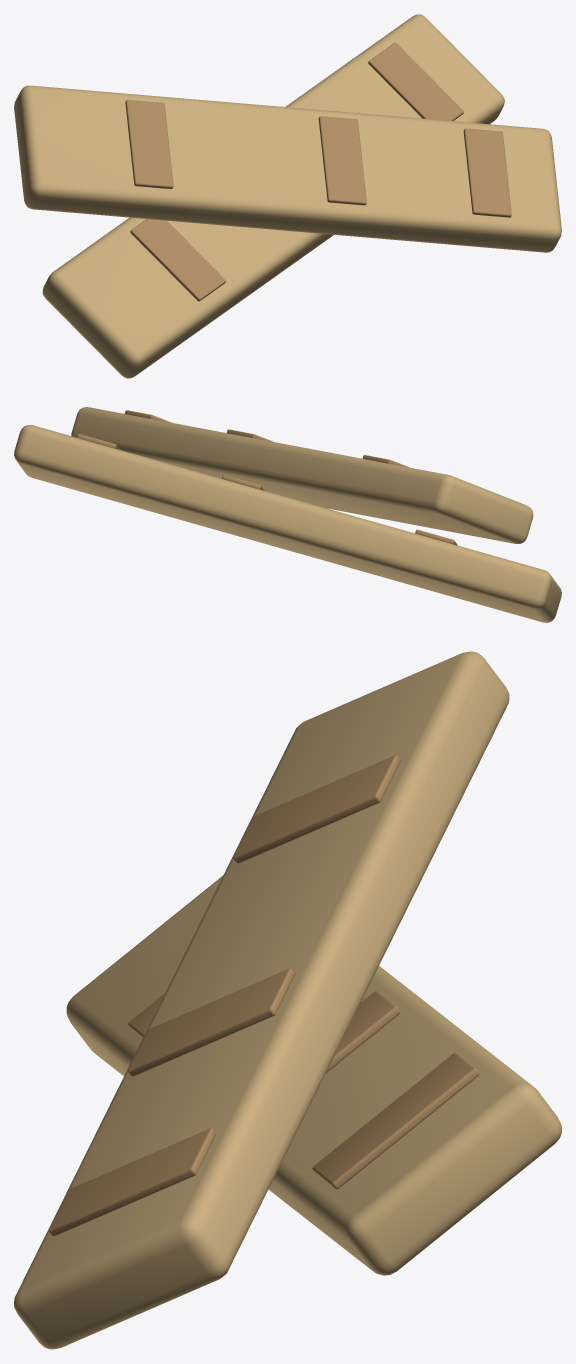
File: mat_plank.glb
3 views of the same model, one above another, from view 1: azimuth 30°, elevation 25°; view 2: azimuth 150°, elevation 25°; view 3: azimuth 270°, elevation 25° (orthographic). The views are drawn at different scales.
Parts seen in each view (by area): view 1: _box; view 2: _box; view 3: _box.
Part boxes in pixels (x1=…): _box: x1=14, y1=14, x2=561, y2=378; _box: x1=14, y1=407, x2=561, y2=622; _box: x1=14, y1=651, x2=561, y2=1349.
Size of the model in its own units: 1.11 by 0.4763 by 0.589.
